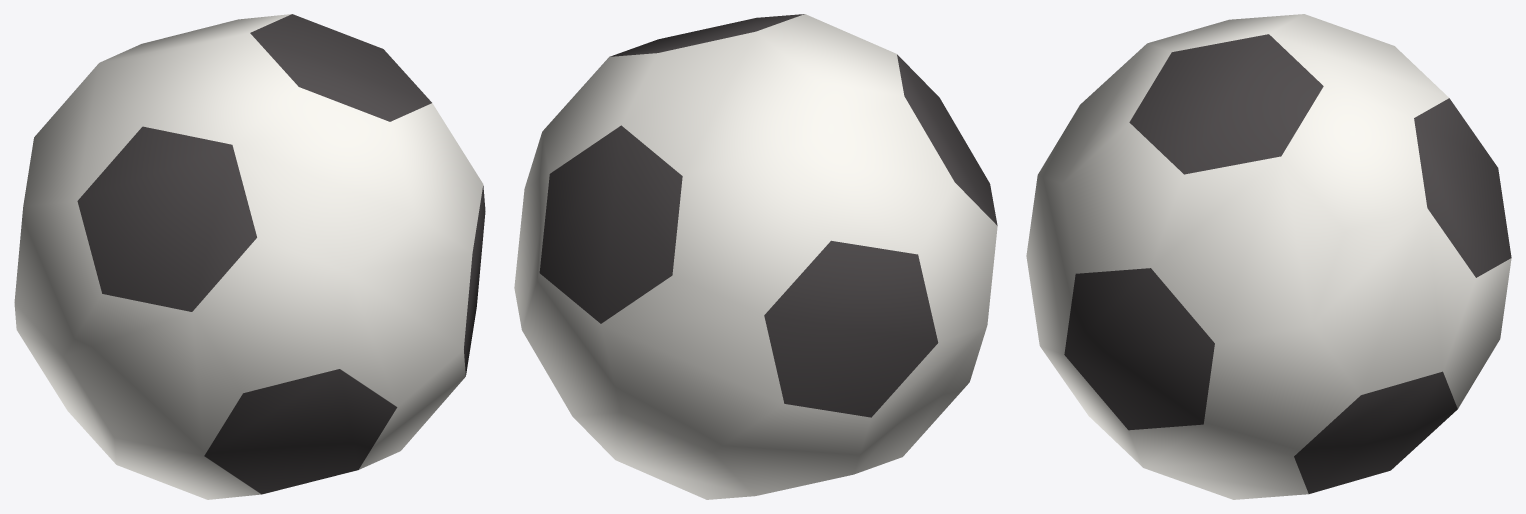
The model's file is SM_Football_ball_01.fbx.
3 renders of one model, left to right at view 1: azimuth 30°, elevation 25°; view 2: azimuth 150°, elevation 25°; view 3: azimuth 270°, elevation 25°, orthographic.
Visible parts, largest first — view 1: M_Football_ball; view 2: M_Football_ball; view 3: M_Football_ball.
Boxes of the visible parts, left/top/right/bottom form: M_Football_ball: left=14, top=14, right=485, bottom=499; M_Football_ball: left=514, top=14, right=997, bottom=499; M_Football_ball: left=1026, top=14, right=1511, bottom=499.
Bounding box in the file's own units: 26.65 × 27.38 × 27.
